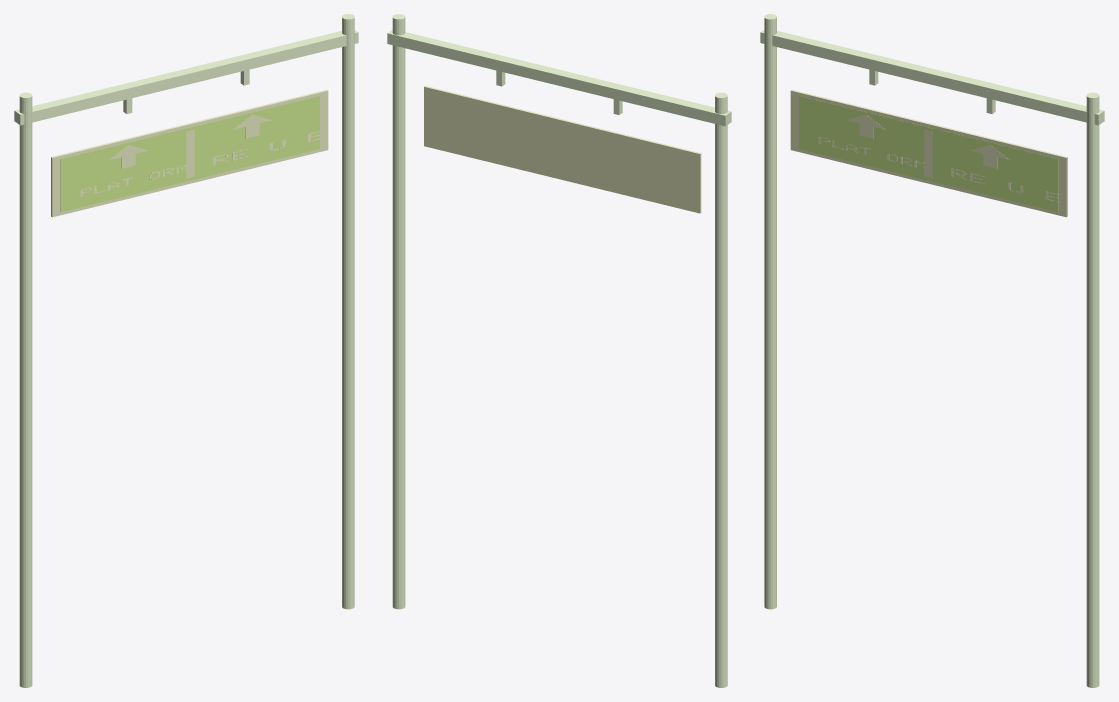
The model's file is sign_overhead_platform_refuge_split.glb.
The picture shows the model from 3 angles, left to right: view 1: azimuth 30°, elevation 25°; view 2: azimuth 150°, elevation 25°; view 3: azimuth 330°, elevation 25°; orthographic projection.
Parts seen in each view (by area): view 1: layer_1_00, pole_left, pole_right, crossbar, plate_base_00; view 2: plate_base_00, pole_right, pole_left, crossbar; view 3: layer_1_00, pole_right, pole_left, crossbar, plate_base_00.
Part boxes in pixels (left/top/right/bottom): layer_1_00: left=60, top=96, right=319, bottom=211; pole_left: left=19, top=92, right=32, bottom=687; pole_right: left=342, top=14, right=354, bottom=609; crossbar: left=14, top=30, right=358, bottom=125; plate_base_00: left=51, top=89, right=328, bottom=217; plate_base_00: left=424, top=86, right=701, bottom=213; pole_right: left=392, top=14, right=405, bottom=609; pole_left: left=715, top=92, right=727, bottom=687; crossbar: left=387, top=30, right=731, bottom=126; layer_1_00: left=799, top=96, right=1058, bottom=211; pole_right: left=1086, top=92, right=1099, bottom=687; pole_left: left=764, top=14, right=776, bottom=609; crossbar: left=760, top=30, right=1104, bottom=125; plate_base_00: left=790, top=89, right=1067, bottom=217.
Bounding box in the file's own units: 3 × 5 × 0.108.
